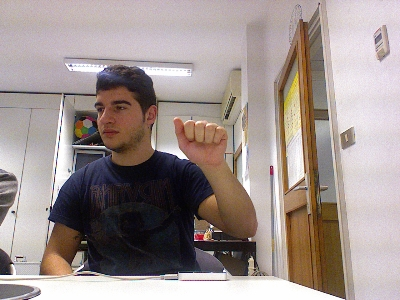石头: (172, 116, 227, 167)
